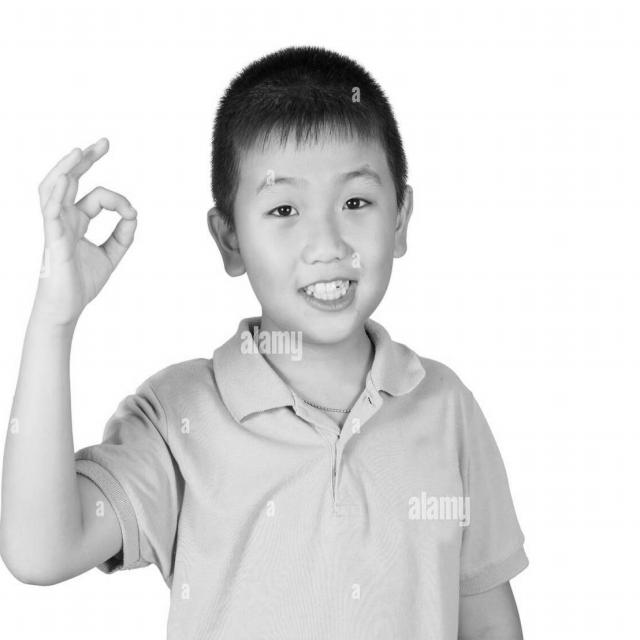perfect: (25, 127, 146, 339)
